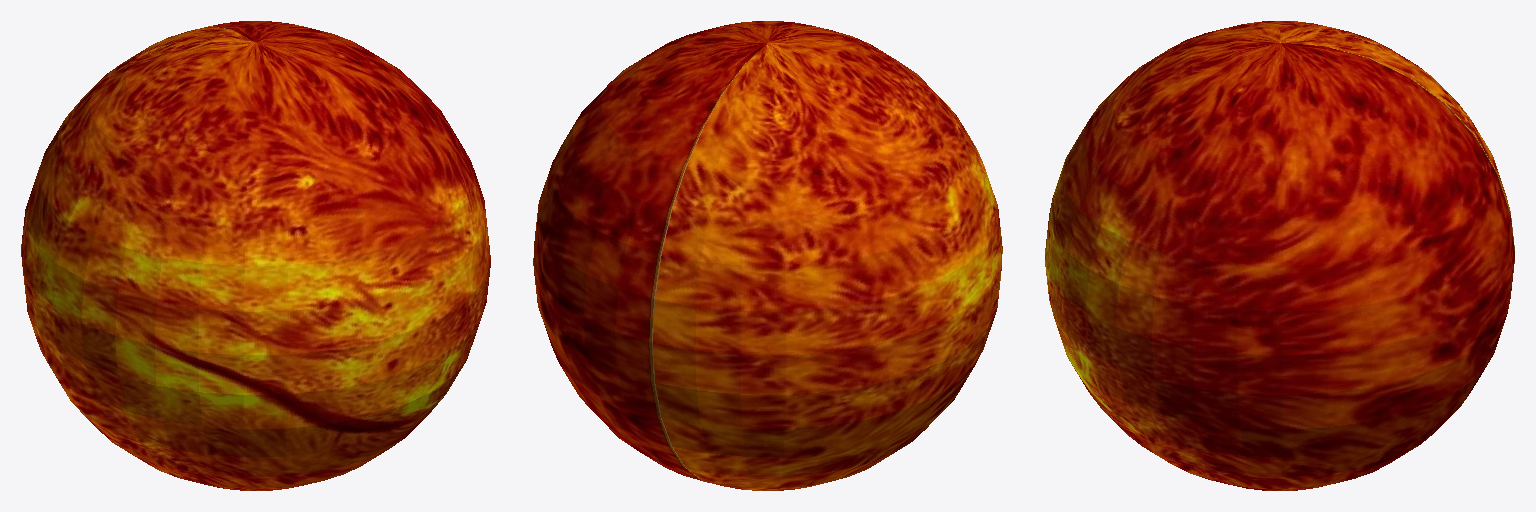
3 renders of one model, left to right at view 1: azimuth 30°, elevation 25°; view 2: azimuth 150°, elevation 25°; view 3: azimuth 270°, elevation 25°, orthographic.
Visible parts, largest first — view 1: Sphere001; view 2: Sphere001; view 3: Sphere001.
Part boxes in pixels (x1,y1,x2,y2): Sphere001: (21, 21, 490, 490); Sphere001: (533, 21, 1002, 490); Sphere001: (1045, 21, 1514, 490).
Size of the model in its own units: 78.32 by 78.33 by 78.32.
Materials: 1 (1 with a texture image).